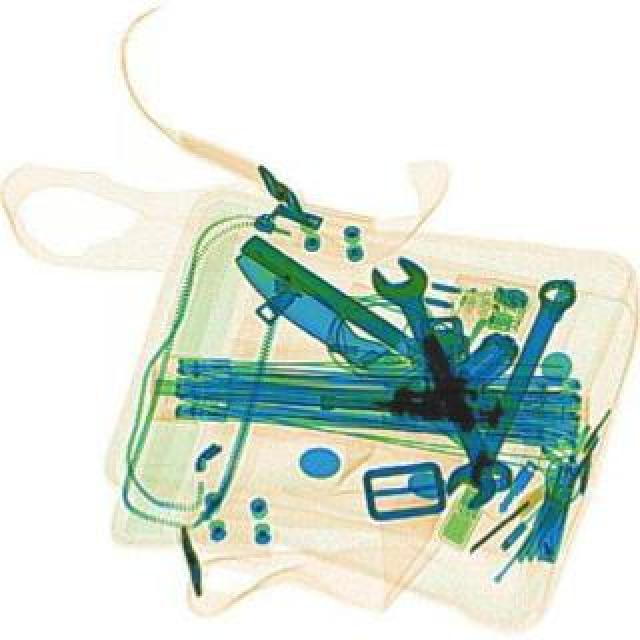gun: (318, 338, 506, 434)
knife: (232, 242, 504, 470), (244, 236, 496, 412)
scissors: (370, 256, 526, 504), (442, 276, 594, 516)
